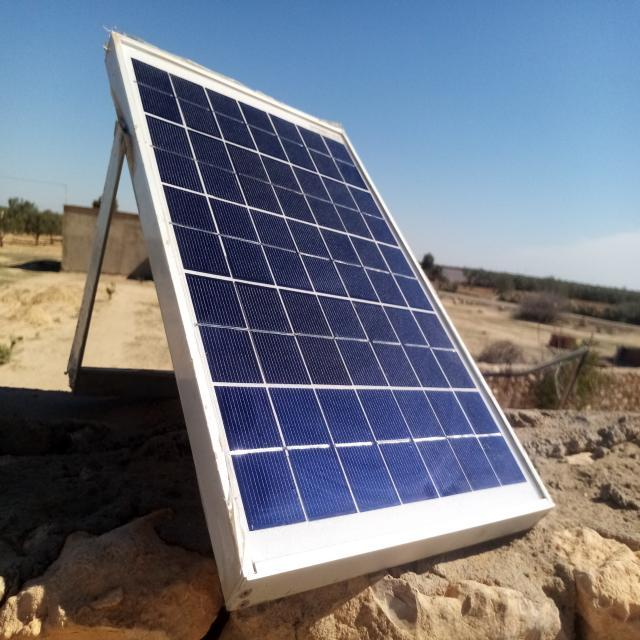no faulty: (117, 37, 551, 576)
